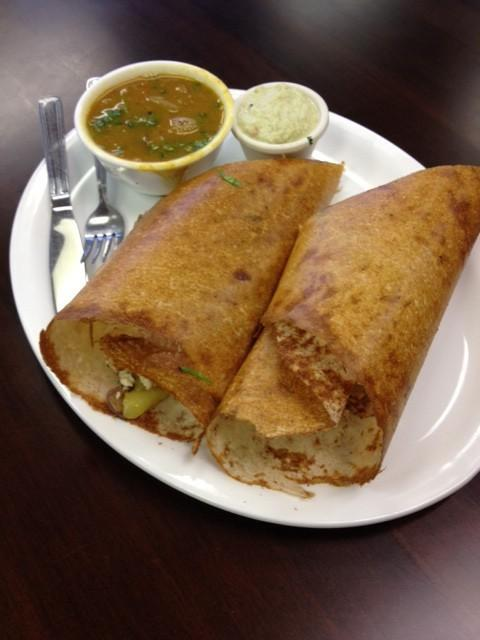CoconutChutney: (237, 84, 322, 142)
Dosa: (39, 158, 345, 455), (209, 167, 480, 500)
